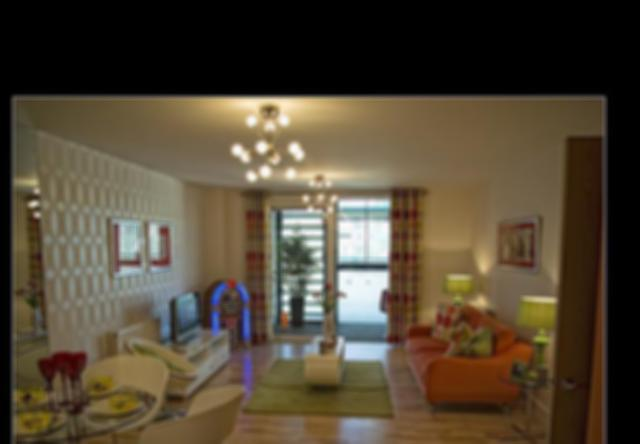Matera: (278, 228, 317, 327)
